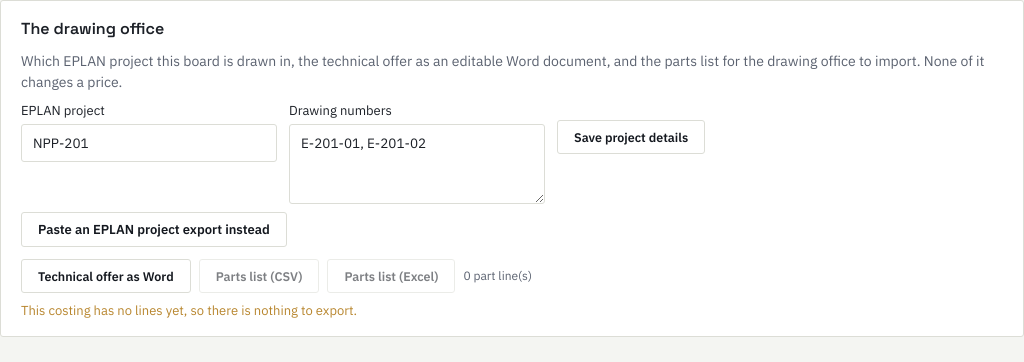
Test: the drawing office card › writes the technical offer as Word, with the references on it
This screenshot has width=1024, height=362.
Click the button "Technical offer as Word" at (106, 276), box top-left (21, 259), bottom-right (191, 293)
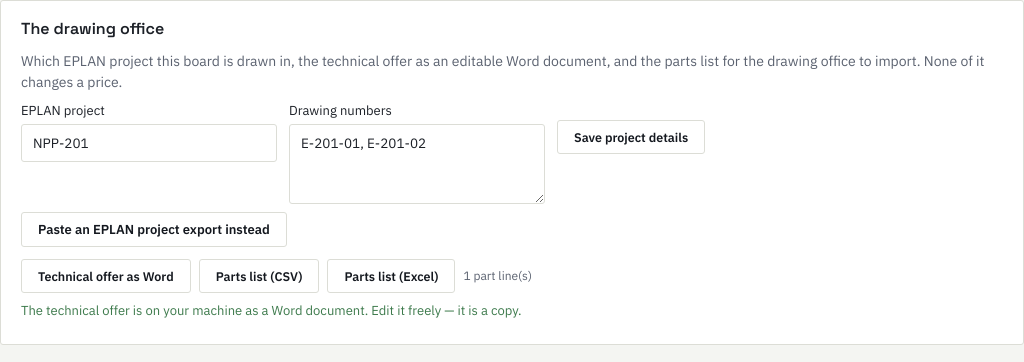
Result: the text "it is a copy" is shown at top-left (21, 302), bottom-right (522, 319)
